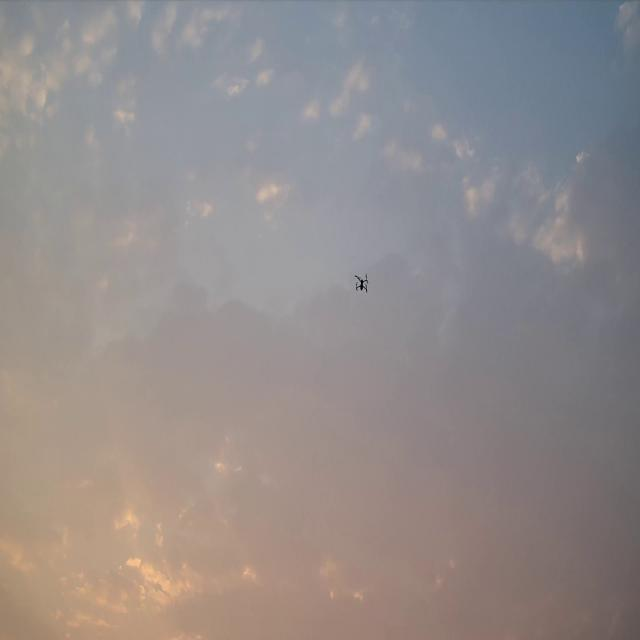UAV: (354, 273, 369, 293)
